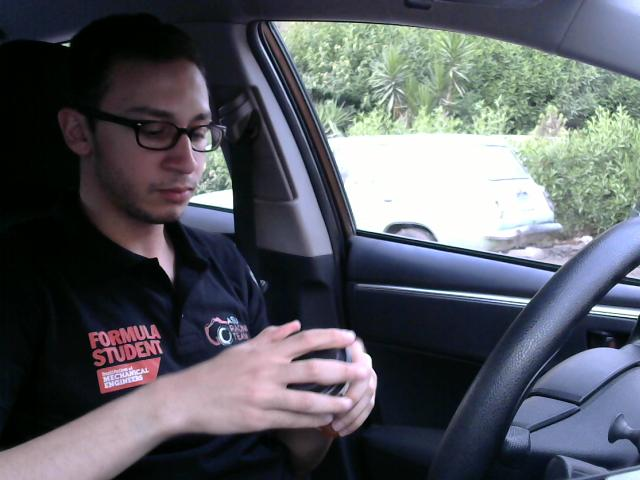Drinking: (275, 323, 369, 438)
